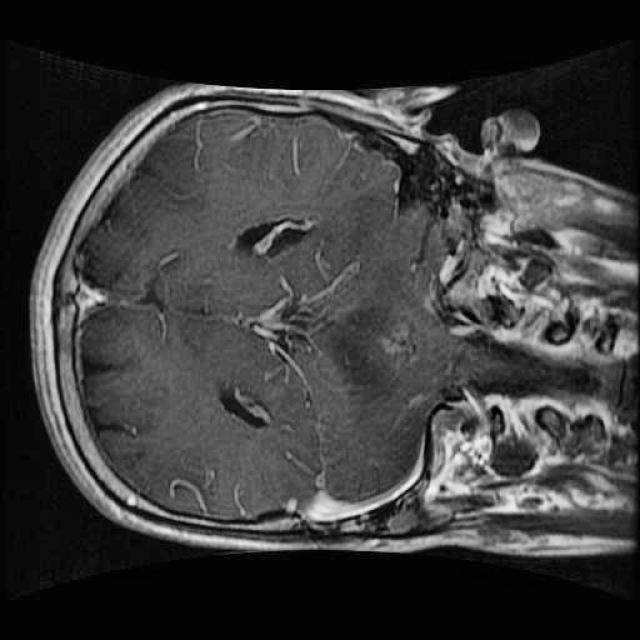Non-Tumor: (292, 282, 434, 419)
